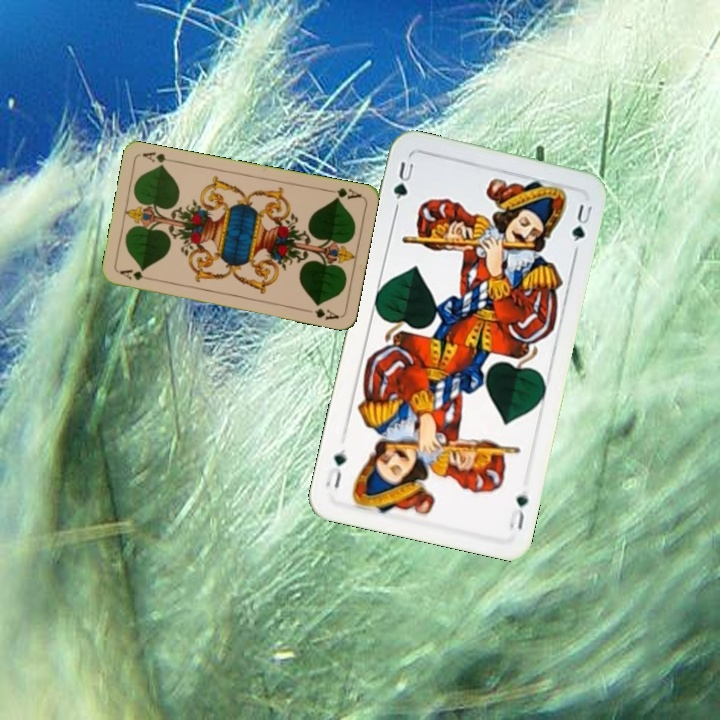GA: (323, 184, 363, 202), (116, 266, 156, 283)
GU: (389, 157, 417, 204), (504, 490, 531, 533)
